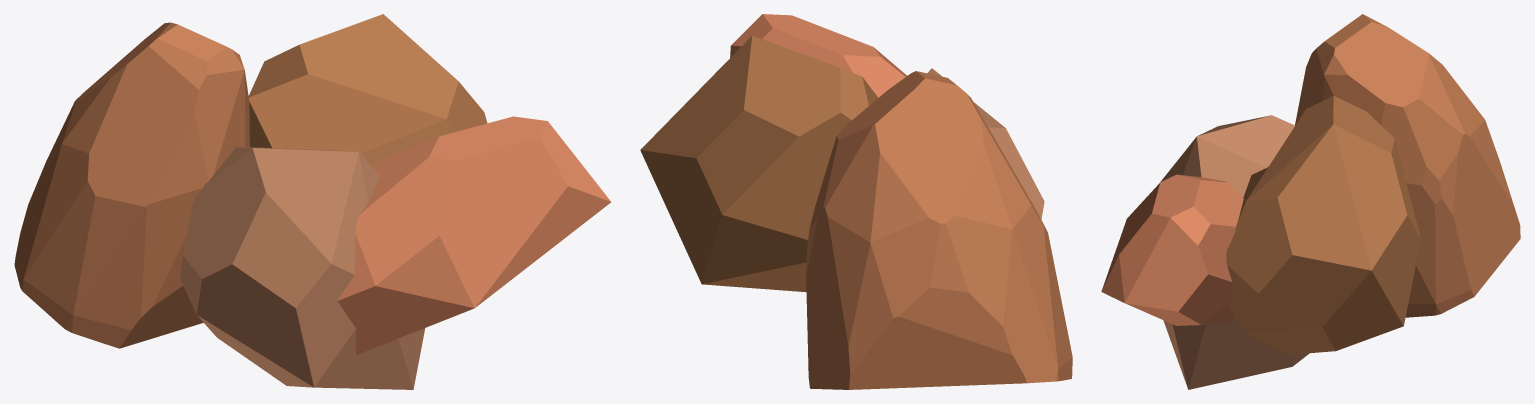
Rendered from Rock_Brown (1).fbx.
3 views of the same model, side by side, from view 1: azimuth 30°, elevation 25°; view 2: azimuth 150°, elevation 25°; view 3: azimuth 270°, elevation 25° (orthographic). The views are drawn at different scales.
Visible parts, largest first — view 1: Icosphere_012, Rock2_001, Rock3_001, Rock1_001; view 2: Icosphere_012, Rock1_001, Rock3_001, Rock2_001; view 3: Rock1_001, Icosphere_012, Rock3_001, Rock2_001.
Boxes of the visible parts, x1,y1,x2,y2 form: Icosphere_012: (14, 22, 249, 348); Rock2_001: (180, 147, 425, 389); Rock3_001: (337, 116, 610, 354); Rock1_001: (248, 14, 487, 167); Icosphere_012: (806, 71, 1072, 389); Rock1_001: (640, 35, 877, 292); Rock3_001: (730, 14, 906, 97); Rock2_001: (927, 68, 1044, 219); Rock1_001: (1226, 95, 1420, 354); Icosphere_012: (1295, 14, 1520, 317); Rock3_001: (1101, 174, 1243, 325); Rock2_001: (1160, 115, 1309, 389).
Bounding box in the file's own units: 186 × 132 × 164.
